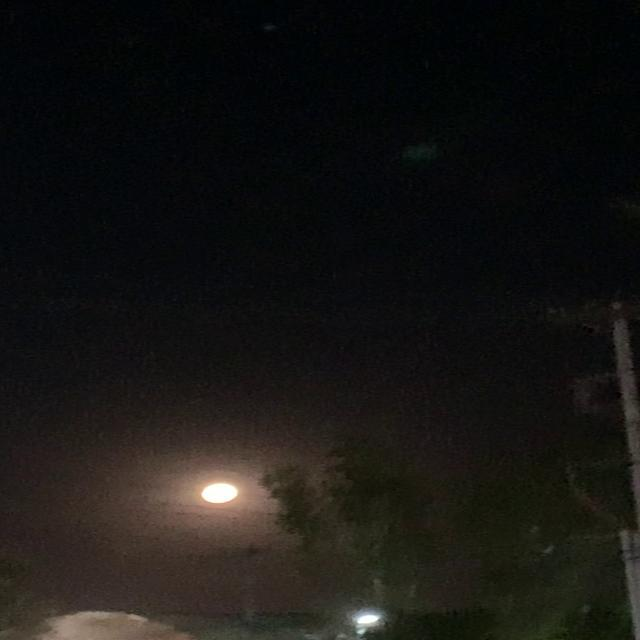moon: (197, 478, 250, 503)
